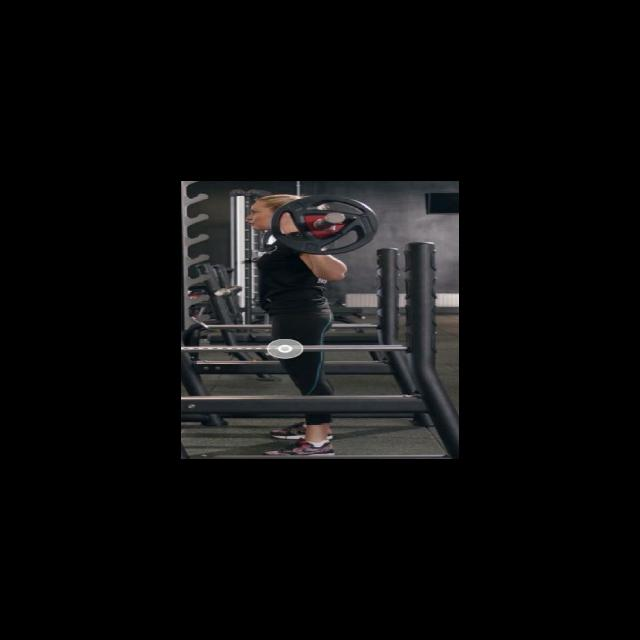barbell: (270, 192, 380, 257)
